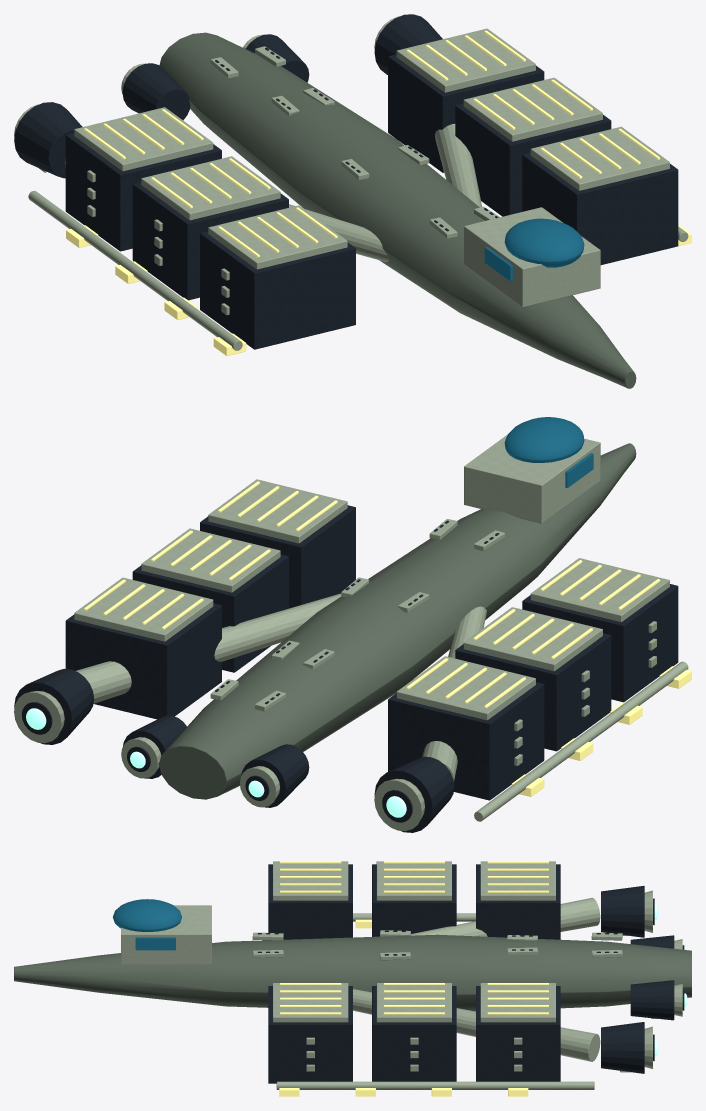
File: cargo_hauler.glb
The picture shows the model from 3 angles, top to bottom: view 1: azimuth 30°, elevation 25°; view 2: azimuth 150°, elevation 25°; view 3: azimuth 270°, elevation 25°; orthographic projection. The views are drawn at different scales.
Visible parts, largest first — view 1: cargo_hauler; view 2: cargo_hauler; view 3: cargo_hauler.
Boxes of the visible parts, box(x1,y1,x2,y2) form: cargo_hauler: box(14, 14, 691, 388); cargo_hauler: box(14, 417, 691, 832); cargo_hauler: box(14, 861, 691, 1096).
Bounding box in the file's own units: 9.82 × 2.73 × 16.
6 materials, 3 textured.
